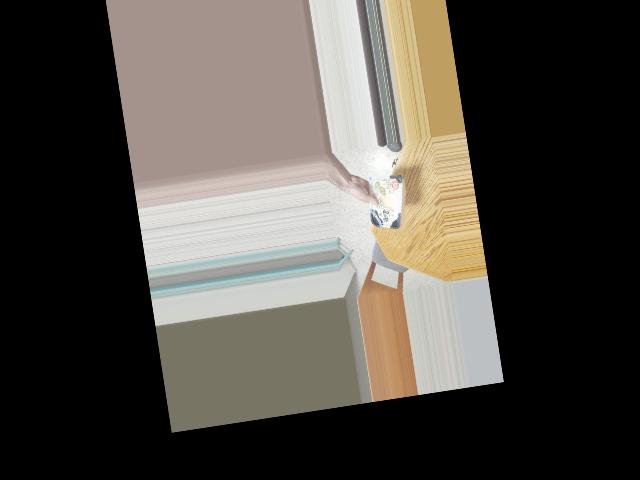cheese: (360, 181, 409, 227)
